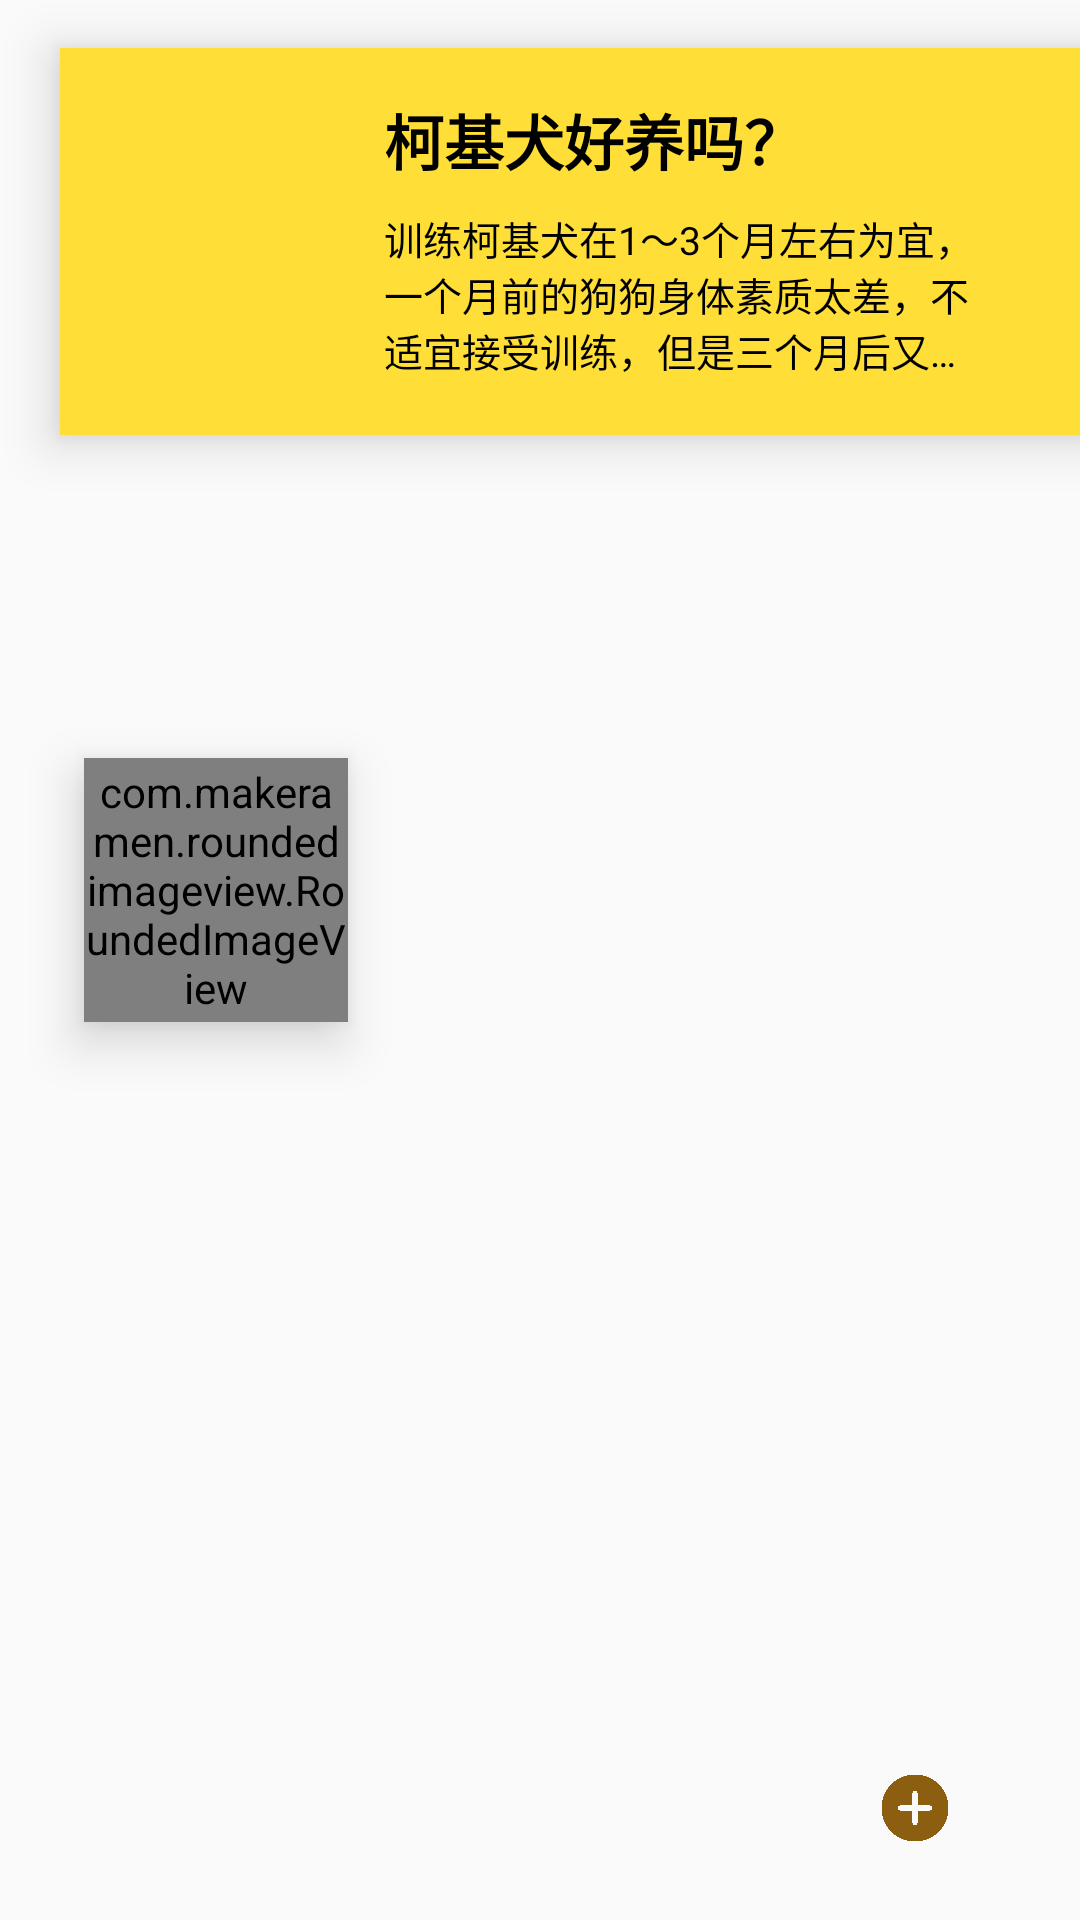

Screen size 1080w x 1920h. Icon name, then its box in pixels as [x1,y1,x2,y2]:
add brown: [882,1775,948,1841]
